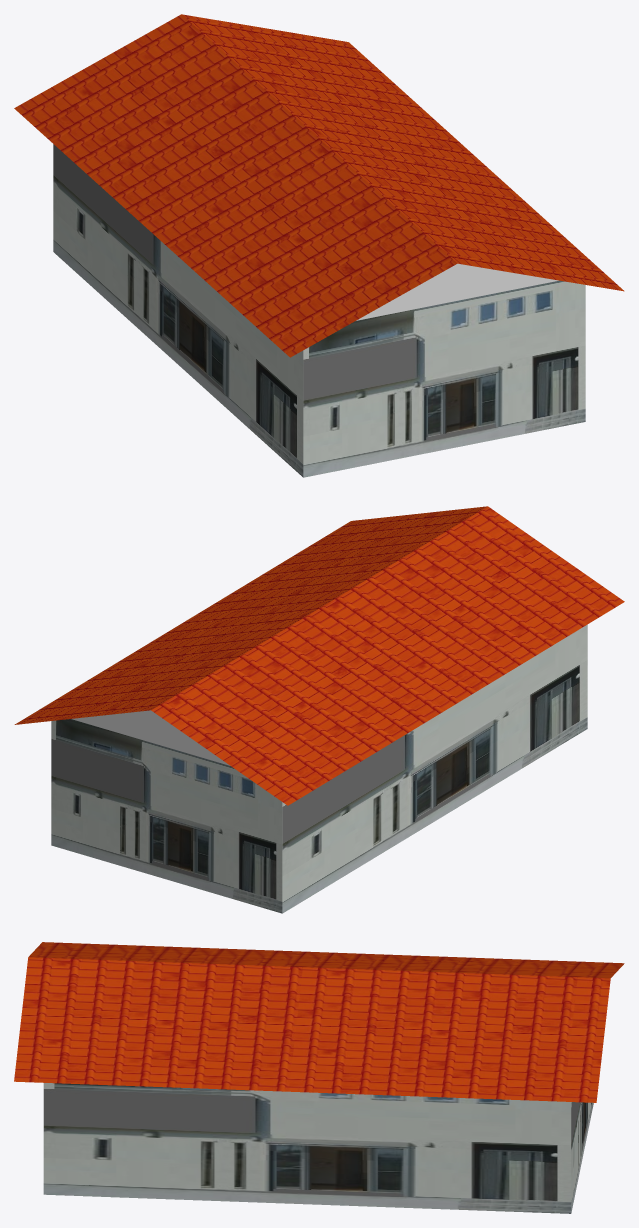
3 views of the same model, one above another, from view 1: azimuth 30°, elevation 25°; view 2: azimuth 150°, elevation 25°; view 3: azimuth 270°, elevation 25° (orthographic). The views are drawn at different scales.
Visible parts, largest first — view 1: CityEngineMaterial_12_m, CityEngineMaterial_11_m, CityEngineMaterial_3_m; view 2: CityEngineMaterial_12_m, CityEngineMaterial_11_m, CityEngineMaterial_3_m; view 3: CityEngineMaterial_12_m, CityEngineMaterial_11_m.
Boxes of the visible parts, bbox=[...] form: CityEngineMaterial_12_m: bbox=[14, 14, 624, 357]; CityEngineMaterial_11_m: bbox=[53, 144, 585, 477]; CityEngineMaterial_3_m: bbox=[356, 263, 558, 320]; CityEngineMaterial_12_m: bbox=[14, 506, 624, 805]; CityEngineMaterial_11_m: bbox=[51, 624, 587, 913]; CityEngineMaterial_3_m: bbox=[72, 710, 230, 765]; CityEngineMaterial_12_m: bbox=[14, 942, 624, 1102]; CityEngineMaterial_11_m: bbox=[43, 1083, 593, 1213].
Bounding box in the file's own units: 13.8 × 7.1 × 22.15.
